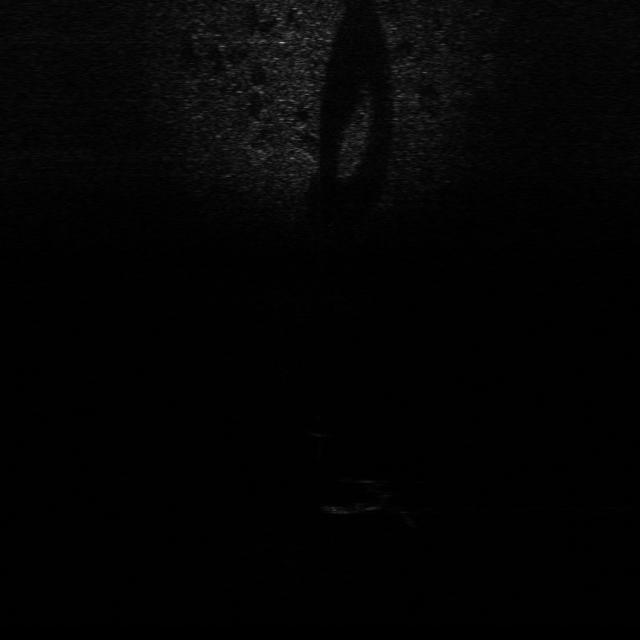ball: (303, 413, 341, 436)
tyre: (311, 472, 397, 519)
